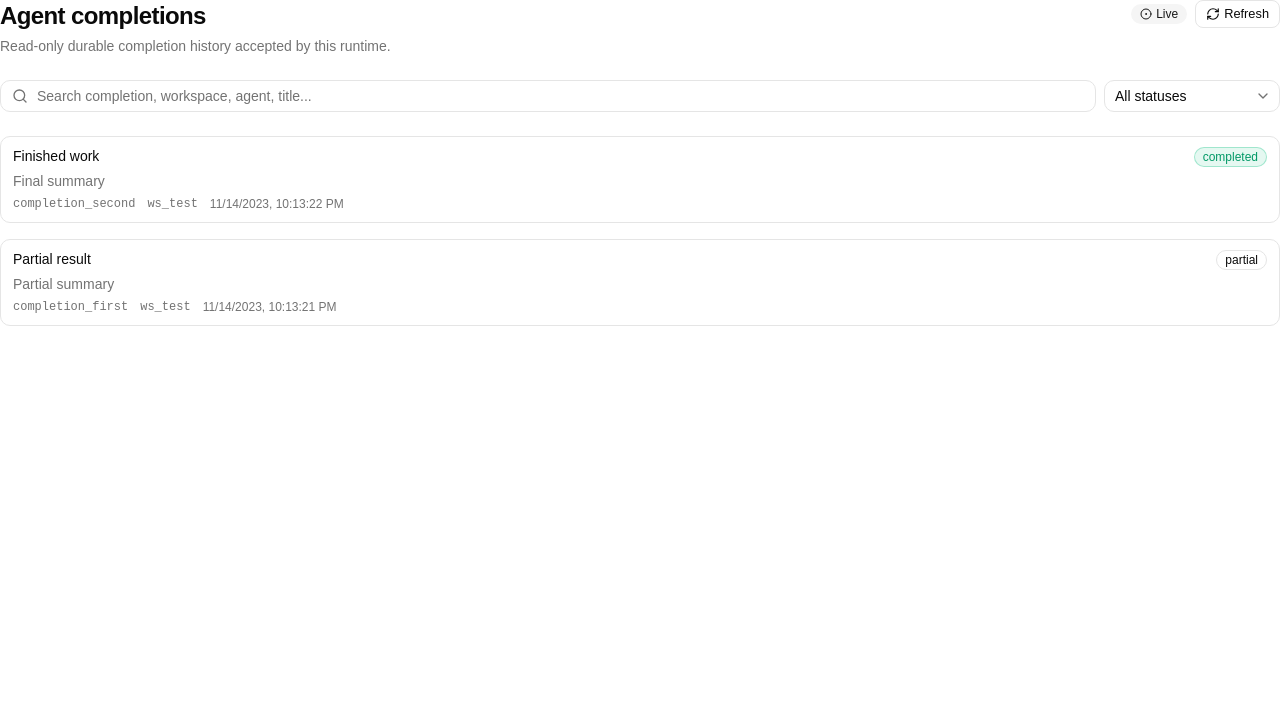
CompletionsPage › shows read-only durable history, consumes the live feed, and opens detail
Check: the text "Partial result" is shown, box x1=13 y1=250 x2=91 y2=270
Check: the icon "Live" is shown, box x1=1131 y1=4 x2=1187 y2=24
Click the text "Finished work" at (56, 157), box x1=13 y1=147 x2=99 y2=167
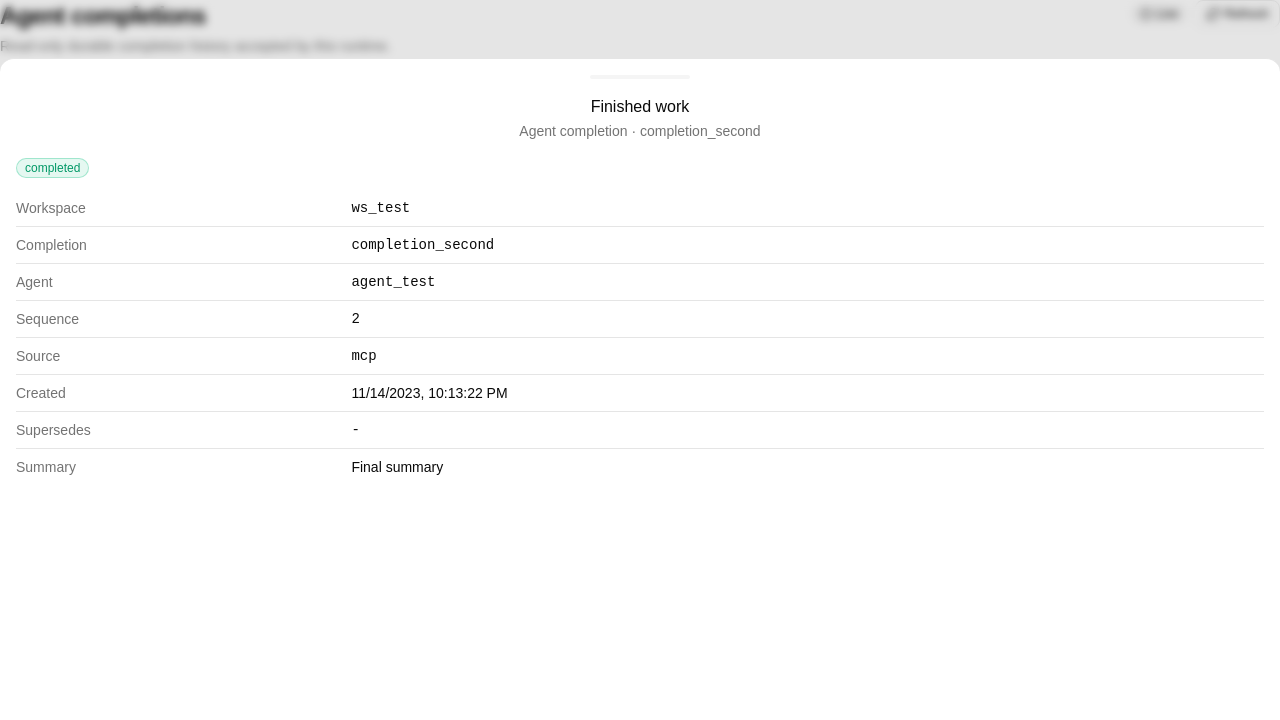
Check: the text "Final summary" below "Agent completions" is shown, box x1=13 y1=173 x2=105 y2=189
Check: the text "Agent completion · completion_second" is shown, box x1=519 y1=123 x2=761 y2=139
